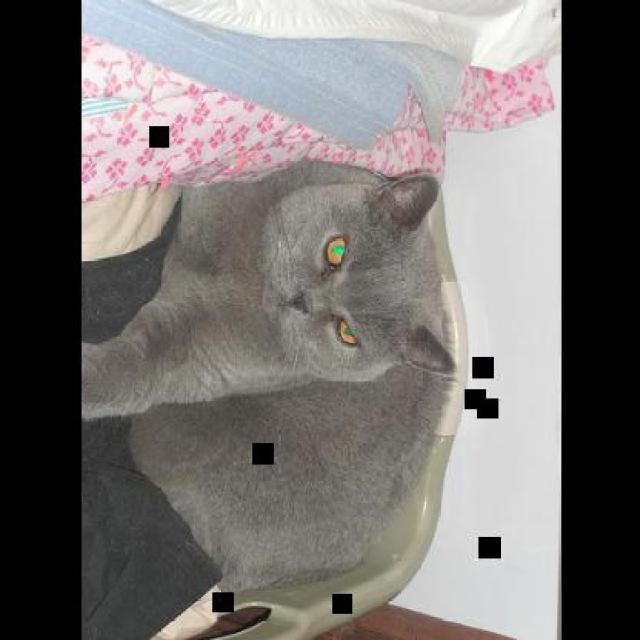unauthorized: (80, 155, 455, 420)
